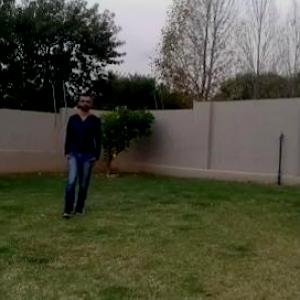follow: (65, 95, 95, 214)
